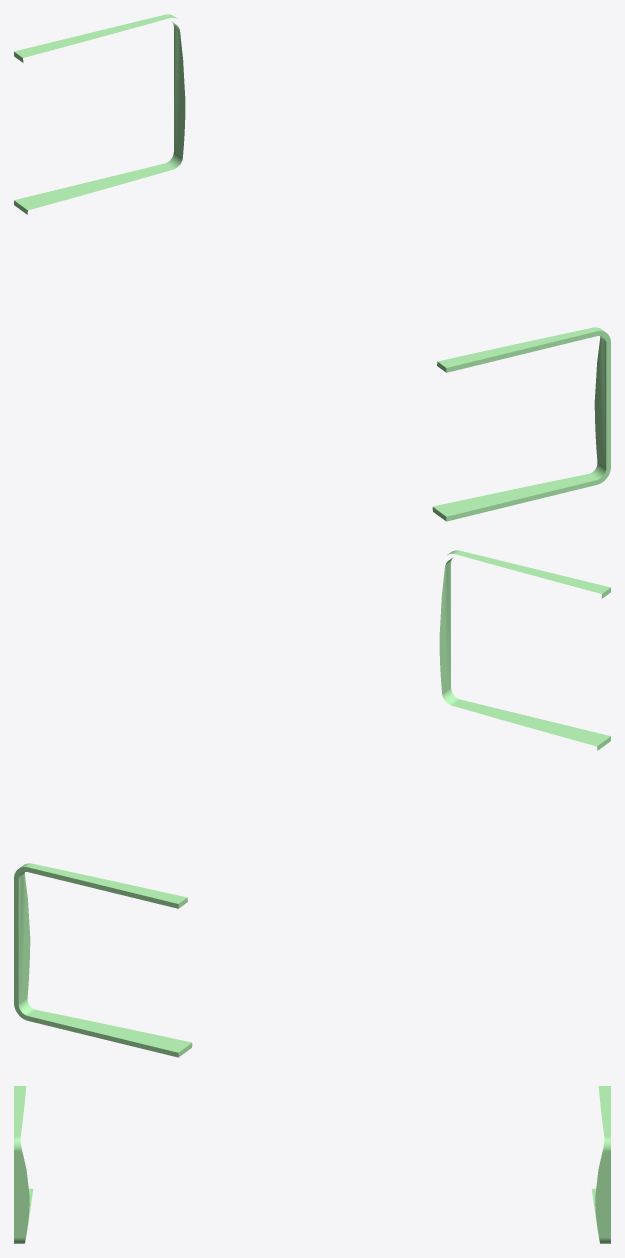
Rendered from OUTFITTING_INTERIOR__BATTERY CMPT__access panel WRK__coaming (scribed to hull).glb.
3 views of the same model, one above another, from view 1: azimuth 30°, elevation 25°; view 2: azimuth 150°, elevation 25°; view 3: azimuth 270°, elevation 25° (orthographic). The views are drawn at different scales.
Parts seen in each view (by area): view 1: coaming (scribed to hull); view 2: coaming (scribed to hull); view 3: coaming (scribed to hull).
Boxes of the visible parts, <box> form: coaming (scribed to hull): <box>14,14,610,521</box>; coaming (scribed to hull): <box>14,550,610,1057</box>; coaming (scribed to hull): <box>14,1086,610,1243</box>.
Size of the model in its own units: 0.6778 by 0.6045 by 3.09.
